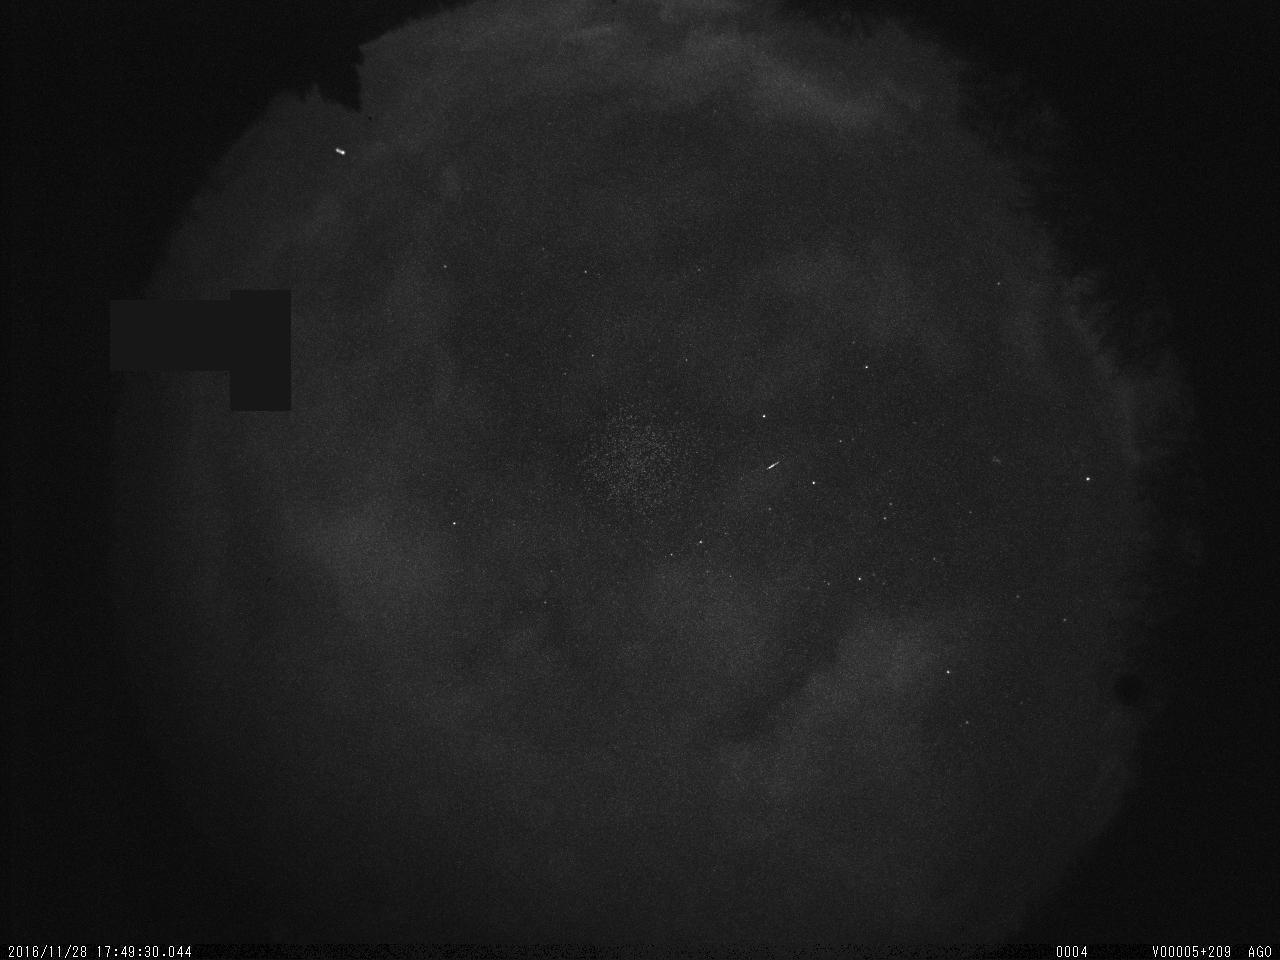Meteor: (760, 458, 784, 472)
